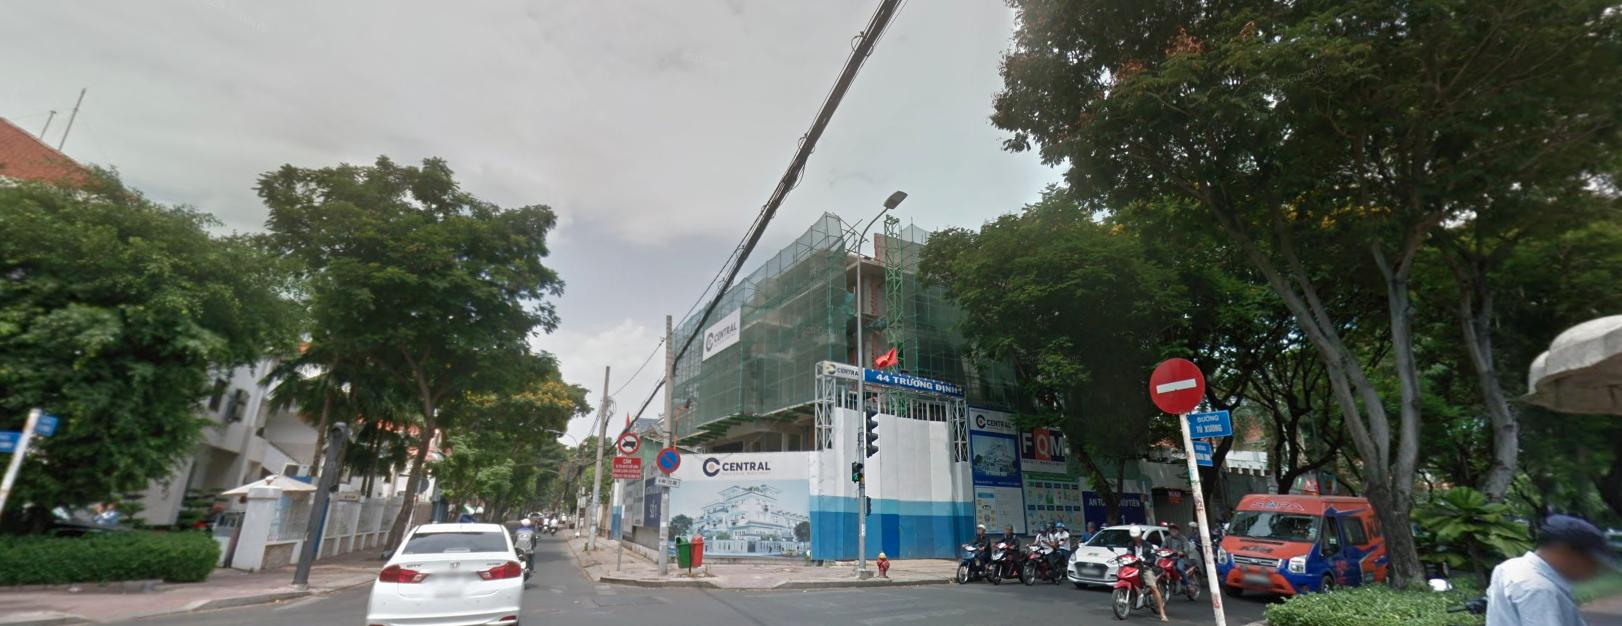Cam con lai: (617, 431, 639, 452)
Cam dung va do: (655, 444, 681, 471)
Cam nguoc chieu: (1148, 352, 1208, 418)
